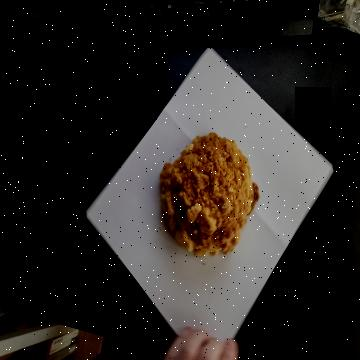soboru_bread: (159, 134, 260, 258)
